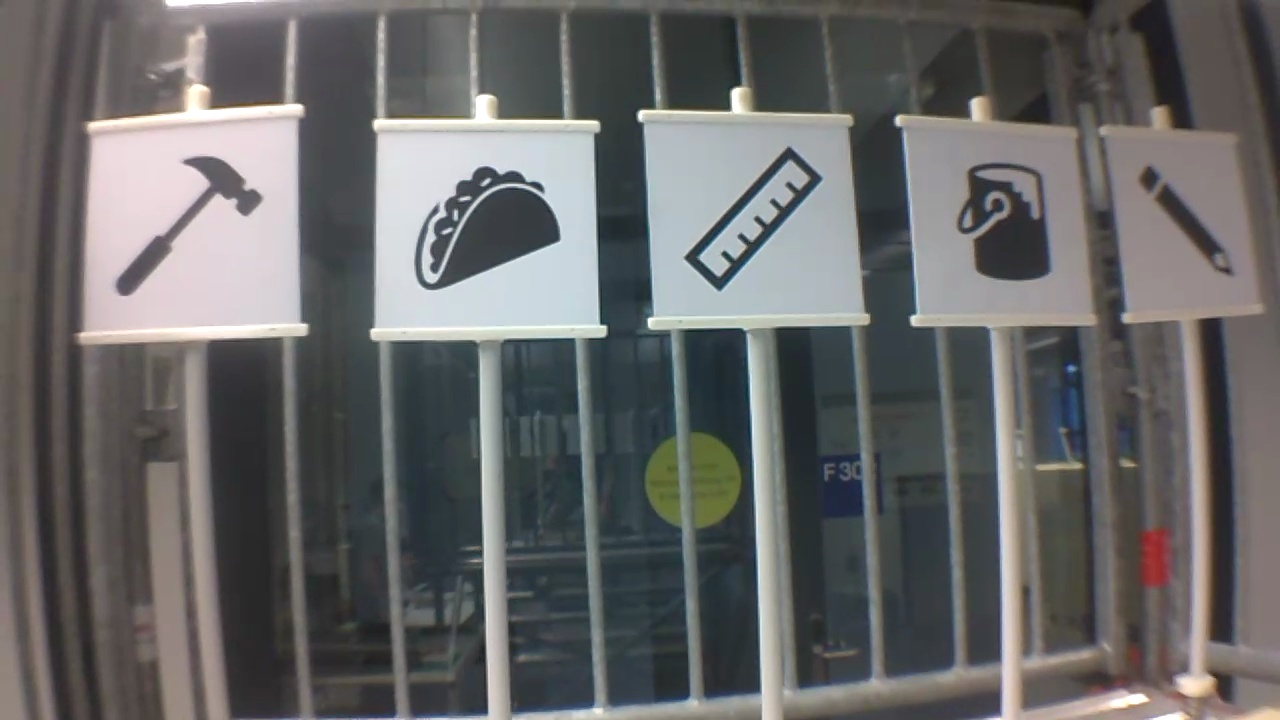bucket: (946, 158, 1058, 287)
hammer: (109, 150, 265, 299)
ruler: (670, 140, 829, 297)
taco: (408, 159, 567, 293)
